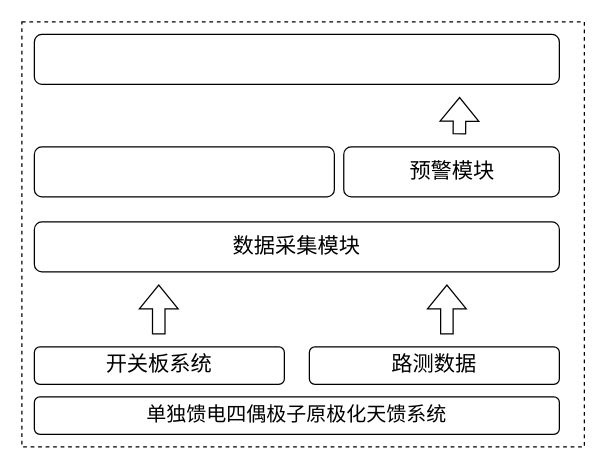
Image size: 606x469. Some labels were removed from this diagram. Here are the shapes that lost their labels. From the top down, the centre of each, then its label:
At point (296, 58): "外部接口API".
At point (183, 171): "可视化与数据分析模块".
